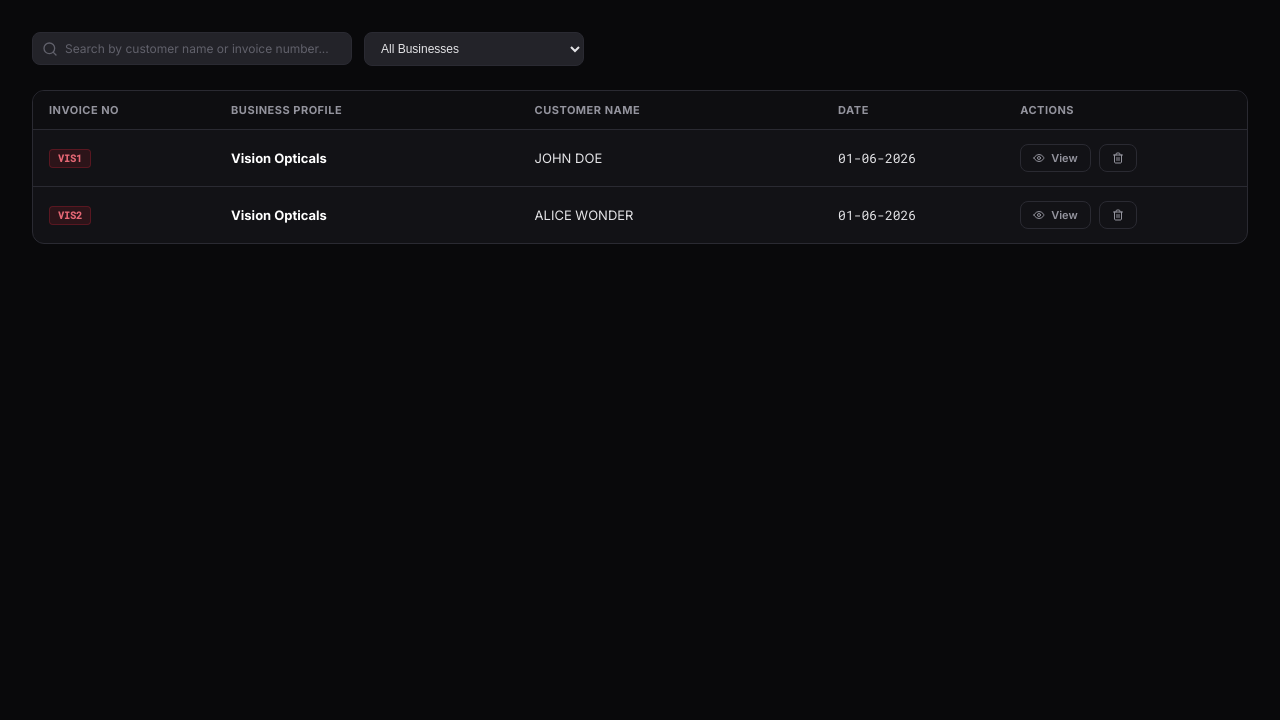
Test: InvoiceHistory › IH7: Clicking "View" opens the invoice modal
The width and height of the screenshot is (1280, 720).
Click the button "View" in the row of "VIS1": point(1055, 158) [1020,144,1091,172]
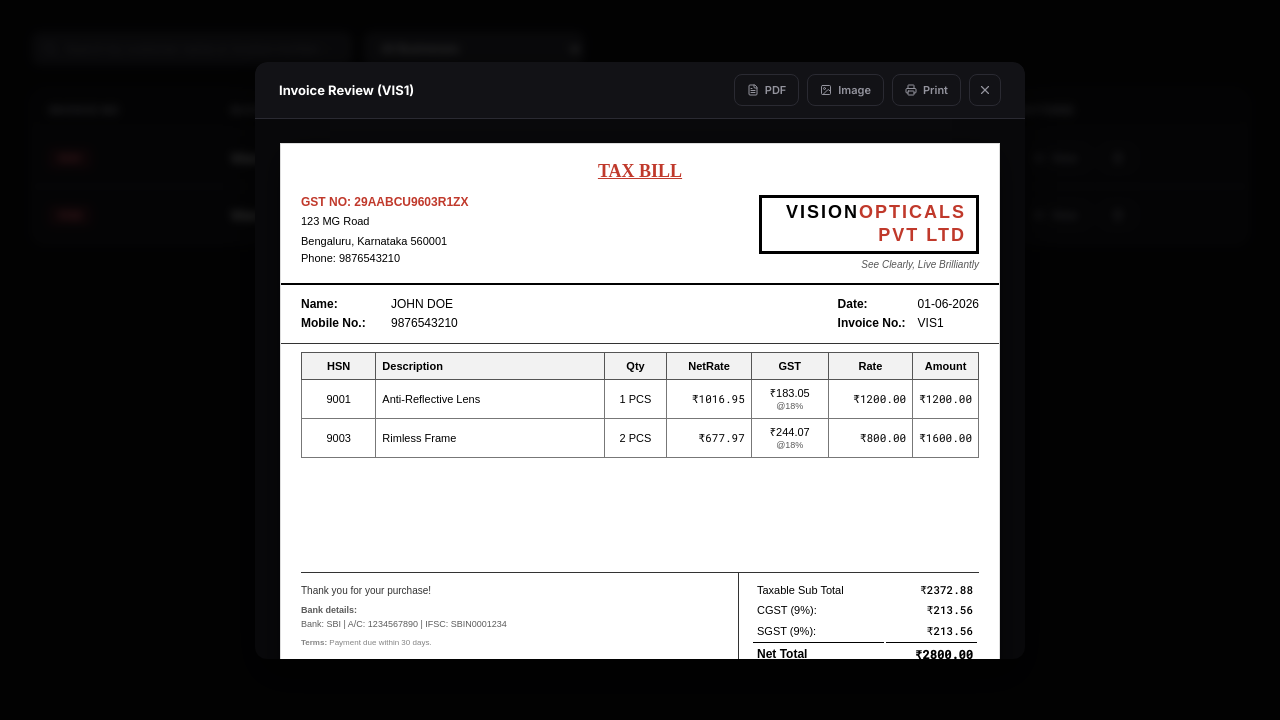
Now the heading "Invoice Review (VIS1)" is shown, box [279,82,414,98]
